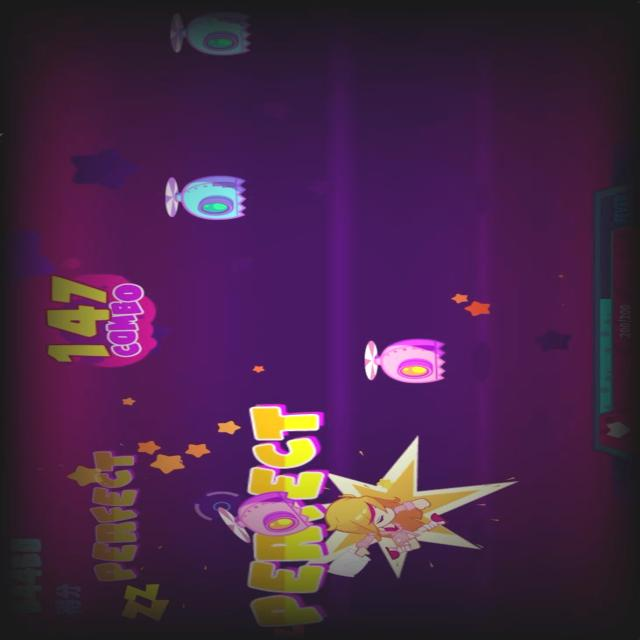jiqiqiu: (212, 484, 314, 548), (156, 172, 252, 224), (167, 5, 257, 57), (358, 334, 448, 380)
